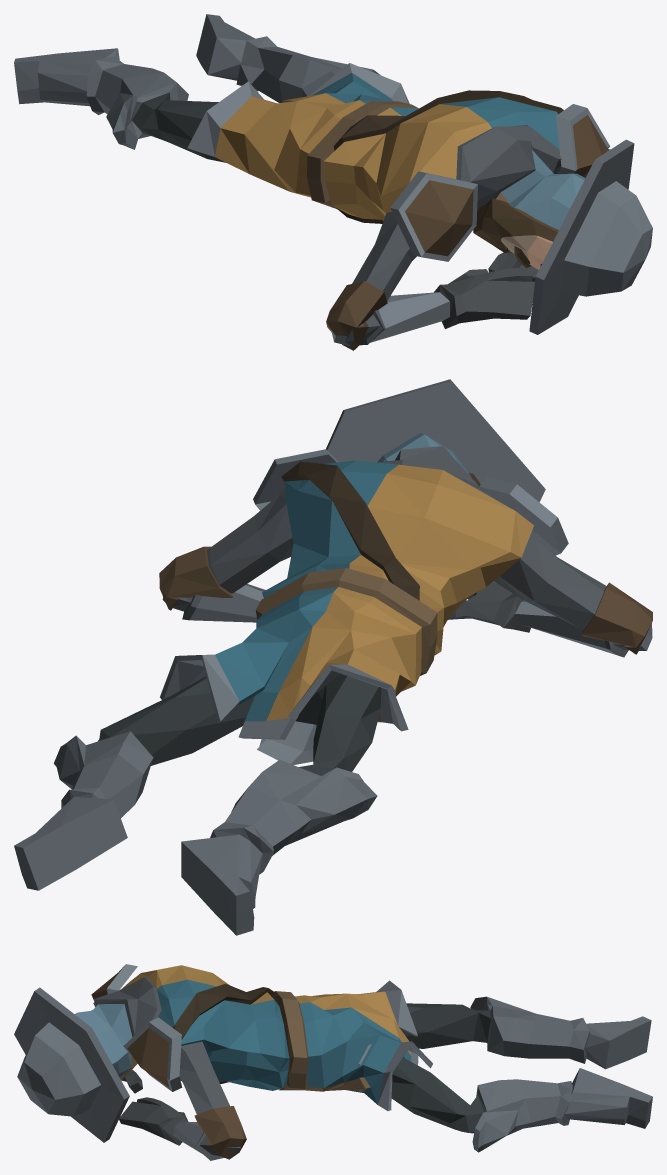
File: kingdom_SM_Prop_Dead_Pleb_08.gltf
3 renders of one model, top to bottom at view 1: azimuth 30°, elevation 25°; view 2: azimuth 150°, elevation 25°; view 3: azimuth 270°, elevation 25°, orthographic. The views are drawn at different scales.
Parts seen in each view (by area): view 1: SM_Prop_Dead_Pleb_08; view 2: SM_Prop_Dead_Pleb_08; view 3: SM_Prop_Dead_Pleb_08.
Part boxes in pixels (x1,y1,x2,y2): SM_Prop_Dead_Pleb_08: [14, 14, 652, 350]; SM_Prop_Dead_Pleb_08: [14, 379, 652, 935]; SM_Prop_Dead_Pleb_08: [14, 964, 652, 1160].
Bounding box in the file's own units: 0.9571 × 0.4763 × 1.83.
1 material, 1 textured.
